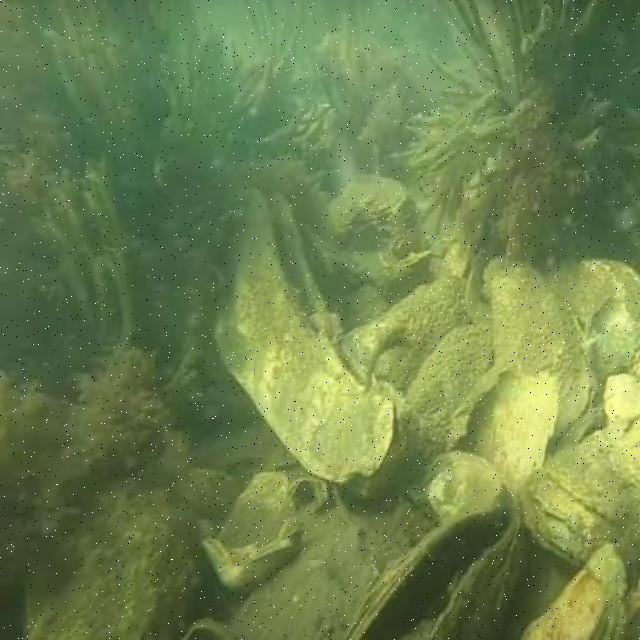Oyster-Closed: (485, 257, 590, 439), (518, 422, 640, 572), (542, 253, 640, 383), (404, 331, 496, 444), (521, 545, 630, 640), (416, 447, 506, 523), (220, 471, 297, 552), (326, 169, 405, 245), (210, 532, 297, 594), (603, 373, 640, 474)
Oyster-Open: (214, 177, 395, 488), (347, 508, 527, 640)
